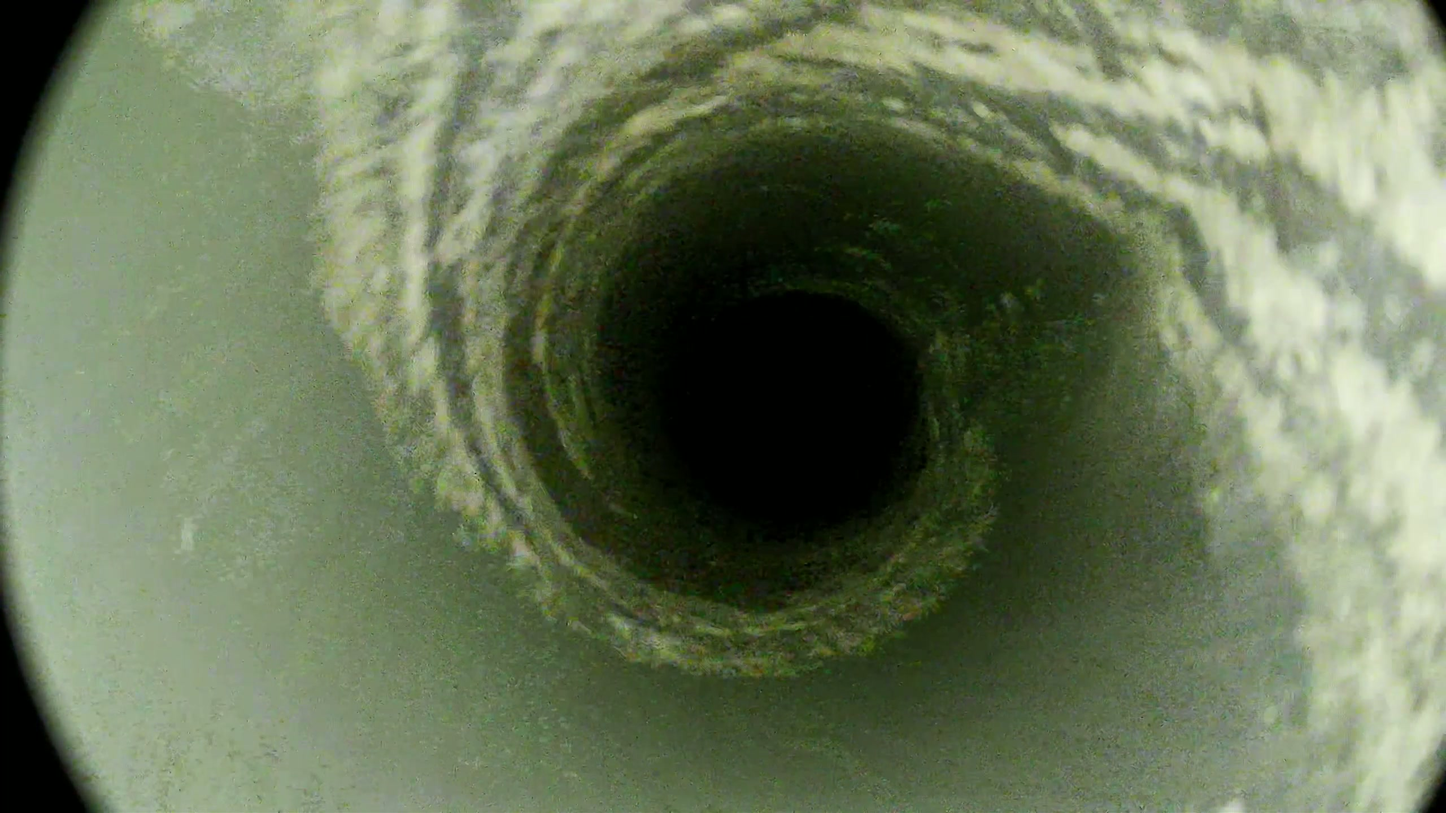hole: (679, 295, 911, 527)
